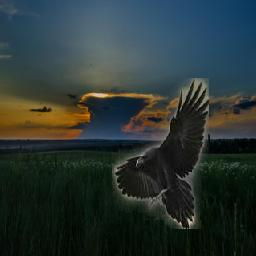Crow: (113, 79, 210, 230)
